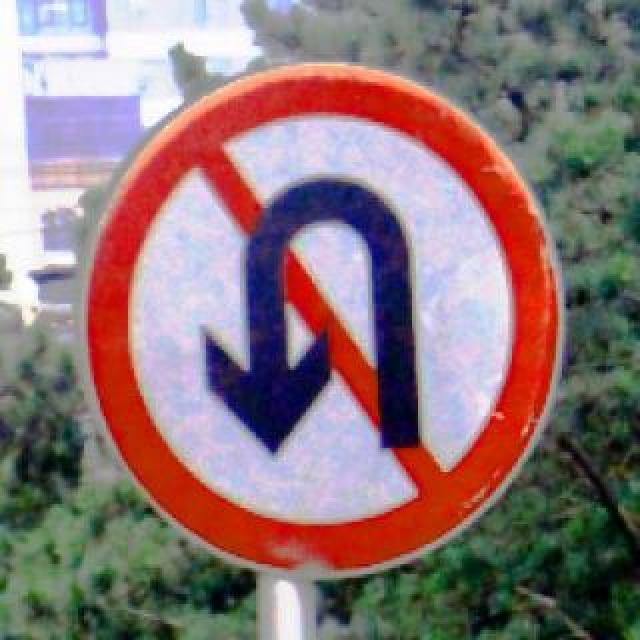no u turn: (72, 56, 562, 572)
